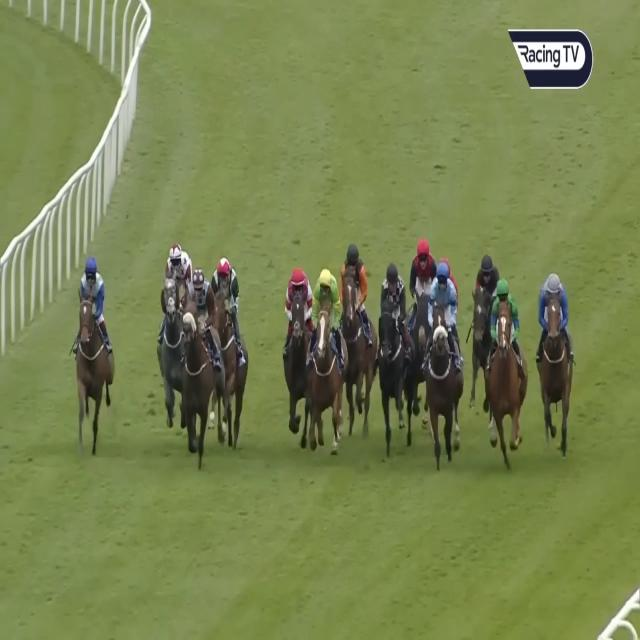horses-racing: (536, 263, 578, 459), (304, 262, 344, 446), (487, 278, 528, 450), (177, 269, 216, 449), (339, 242, 376, 425), (371, 265, 409, 439), (75, 256, 108, 445), (212, 255, 246, 434), (153, 238, 189, 402), (426, 268, 457, 441), (282, 260, 312, 426), (406, 240, 438, 370), (472, 251, 503, 379)
